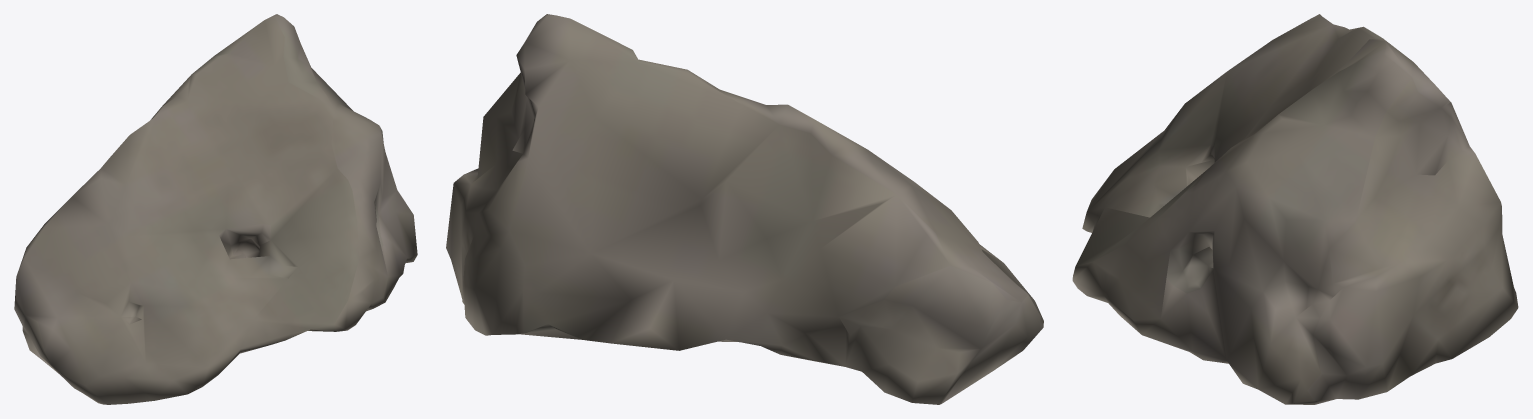
Rendered from moon_rock_07_lod2.glb.
3 renders of one model, left to right at view 1: azimuth 30°, elevation 25°; view 2: azimuth 150°, elevation 25°; view 3: azimuth 270°, elevation 25°, orthographic. The views are drawn at different scales.
Visible parts, largest first — view 1: moon_rock_07_LOD0; view 2: moon_rock_07_LOD0; view 3: moon_rock_07_LOD0.
Boxes of the visible parts, <box> form: moon_rock_07_LOD0: <box>14,14,417,404</box>; moon_rock_07_LOD0: <box>446,14,1043,404</box>; moon_rock_07_LOD0: <box>1072,14,1518,404</box>.
Bounding box in the file's own units: 0.0966 × 0.0603 × 0.0734.
Materials: 1 (1 with a texture image).
